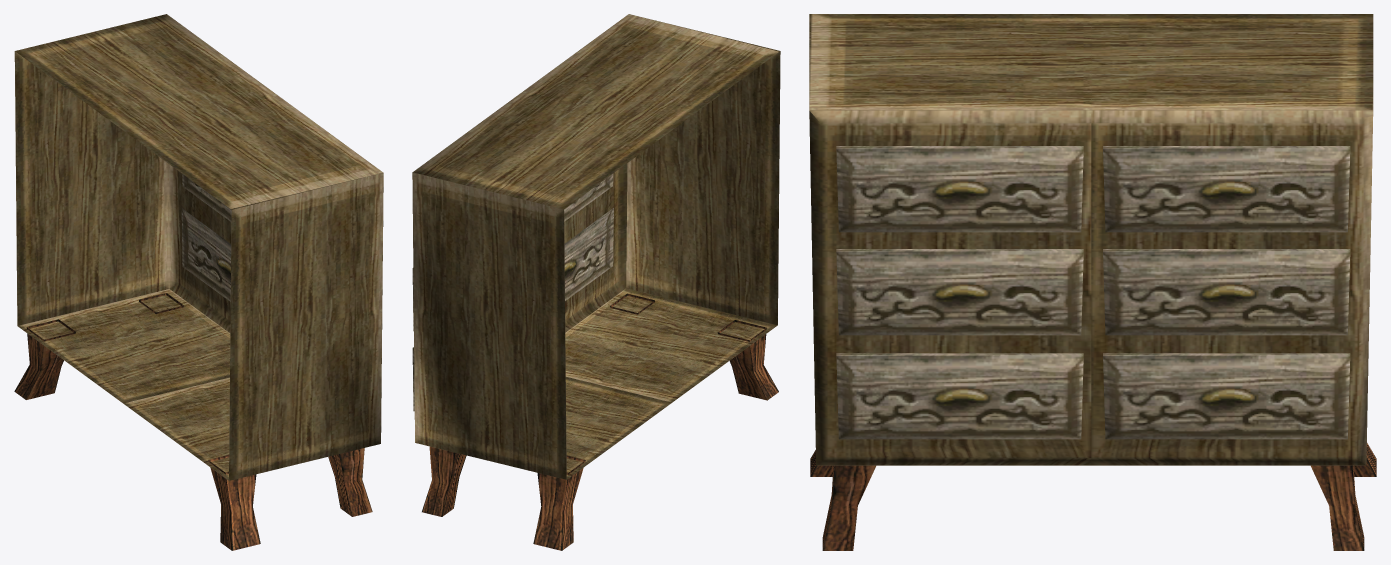
Rendered from INST_LT_LG_DRESSER.fbx.
The picture shows the model from 3 angles, left to right: view 1: azimuth 30°, elevation 25°; view 2: azimuth 150°, elevation 25°; view 3: azimuth 270°, elevation 25°; orthographic projection. The views are drawn at different scales.
Visible parts, largest first — view 1: INST_LT_LG_DRESSER; view 2: INST_LT_LG_DRESSER; view 3: INST_LT_LG_DRESSER.
Part boxes in pixels (bbox=[...]): INST_LT_LG_DRESSER: bbox=[14, 14, 383, 550]; INST_LT_LG_DRESSER: bbox=[412, 14, 780, 550]; INST_LT_LG_DRESSER: bbox=[809, 14, 1376, 550].
Size of the model in its own units: 5281 by 10453 by 12100.
Materials: 3 (3 with a texture image).
